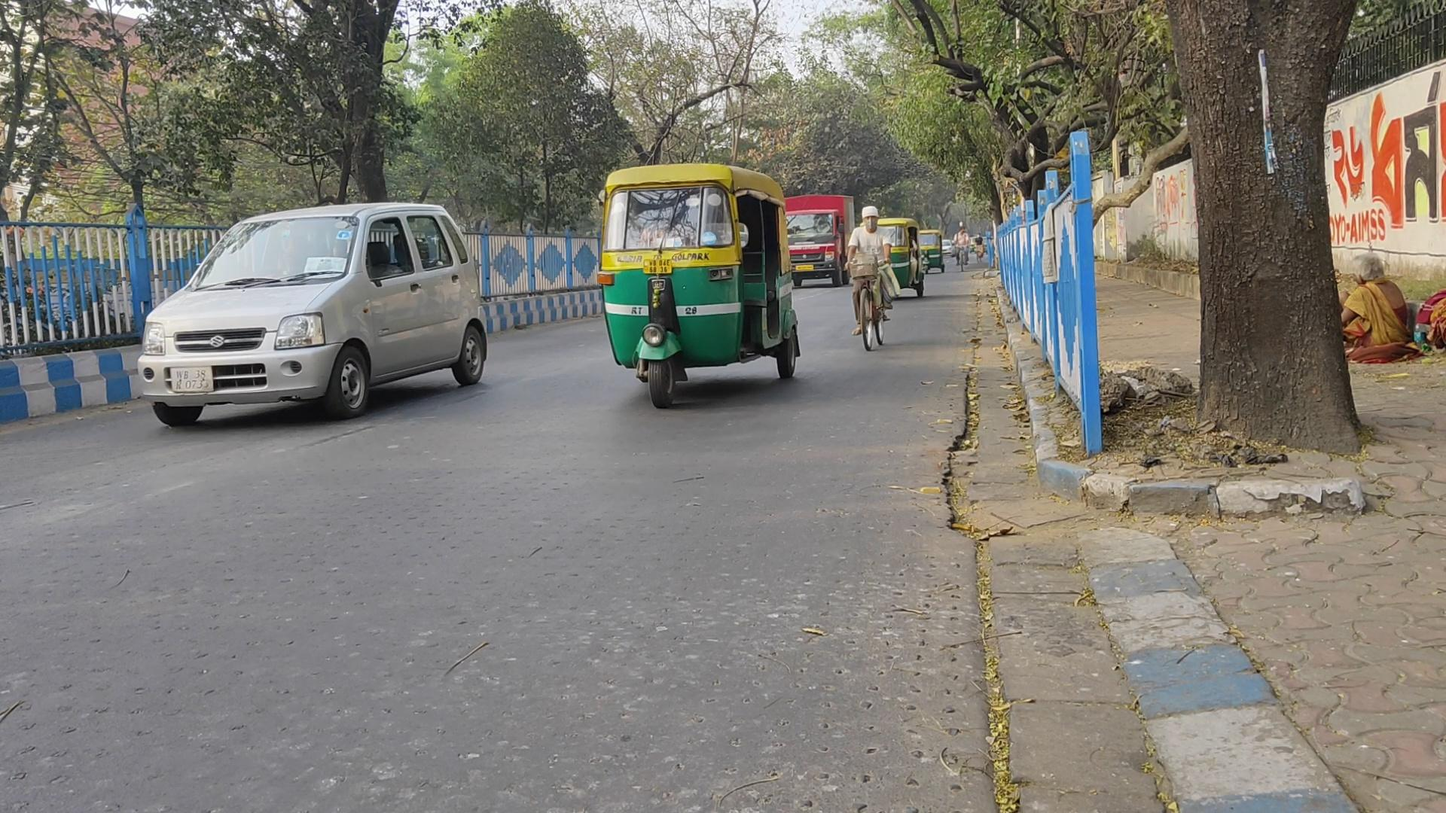Auto: (598, 165, 801, 410), (878, 217, 927, 304), (916, 227, 947, 275)
bike: (847, 206, 892, 352), (953, 226, 972, 273)
car: (136, 203, 487, 426)
van: (782, 193, 857, 288)
